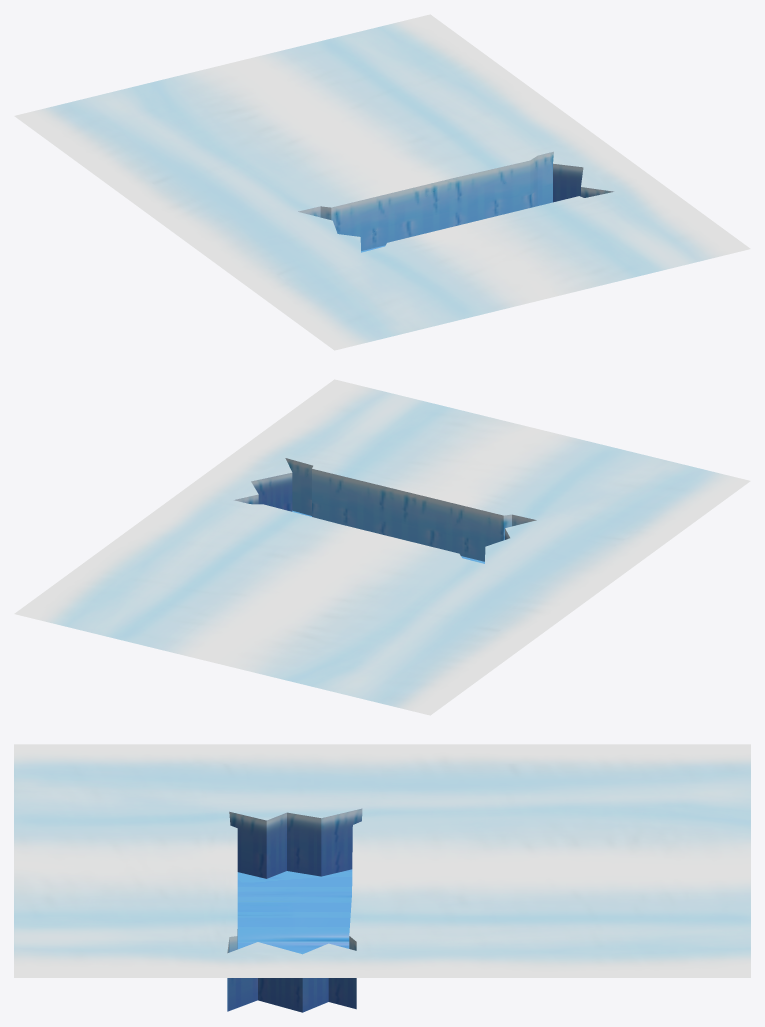
File: Hole_L_Size_04.FBX
3 renders of one model, top to bottom at view 1: azimuth 30°, elevation 25°; view 2: azimuth 150°, elevation 25°; view 3: azimuth 270°, elevation 25°, orthographic. The views are drawn at different scales.
Visible parts, largest first — view 1: Object117; view 2: Object117; view 3: Object117.
Boxes of the visible parts, x1=… form: Object117: x1=14, y1=14, x2=750, y2=350; Object117: x1=14, y1=379, x2=750, y2=715; Object117: x1=14, y1=744, x2=750, y2=1012.
Size of the model in its own units: 600 by 70 by 800.
